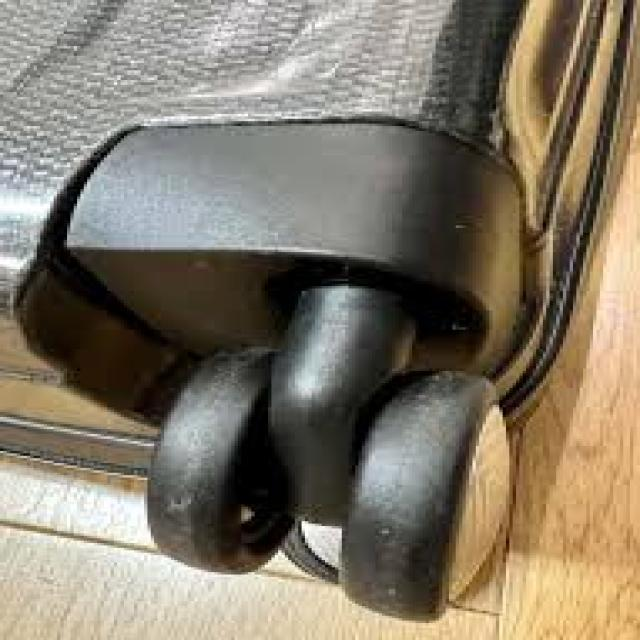Damage-bag: (16, 112, 417, 419)
